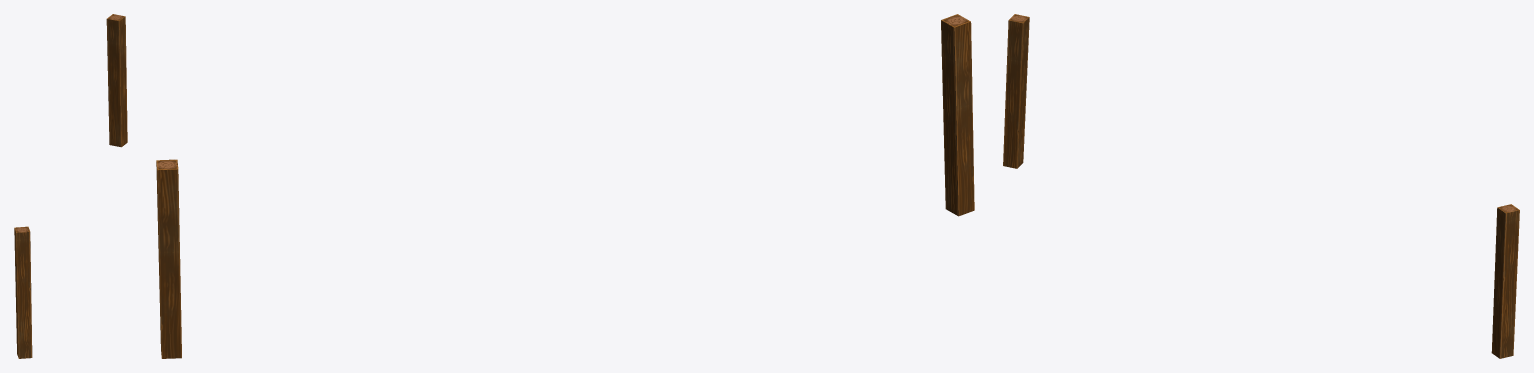
3 views of the same model, side by side, from view 1: azimuth 30°, elevation 25°; view 2: azimuth 150°, elevation 25°; view 3: azimuth 270°, elevation 25° (orthographic). The views are drawn at different scales.
Parts seen in each view (by area): view 1: Cube.2087; view 2: Cube.2087; view 3: Cube.2087.
Boxes of the visible parts, left/top/right/bottom form: Cube.2087: left=14, top=14, right=127, bottom=358; Cube.2087: left=156, top=14, right=974, bottom=358; Cube.2087: left=1003, top=14, right=1519, bottom=358.
Size of the model in its own units: 1494 by 624 by 1788.
Materials: 1 (1 with a texture image).
